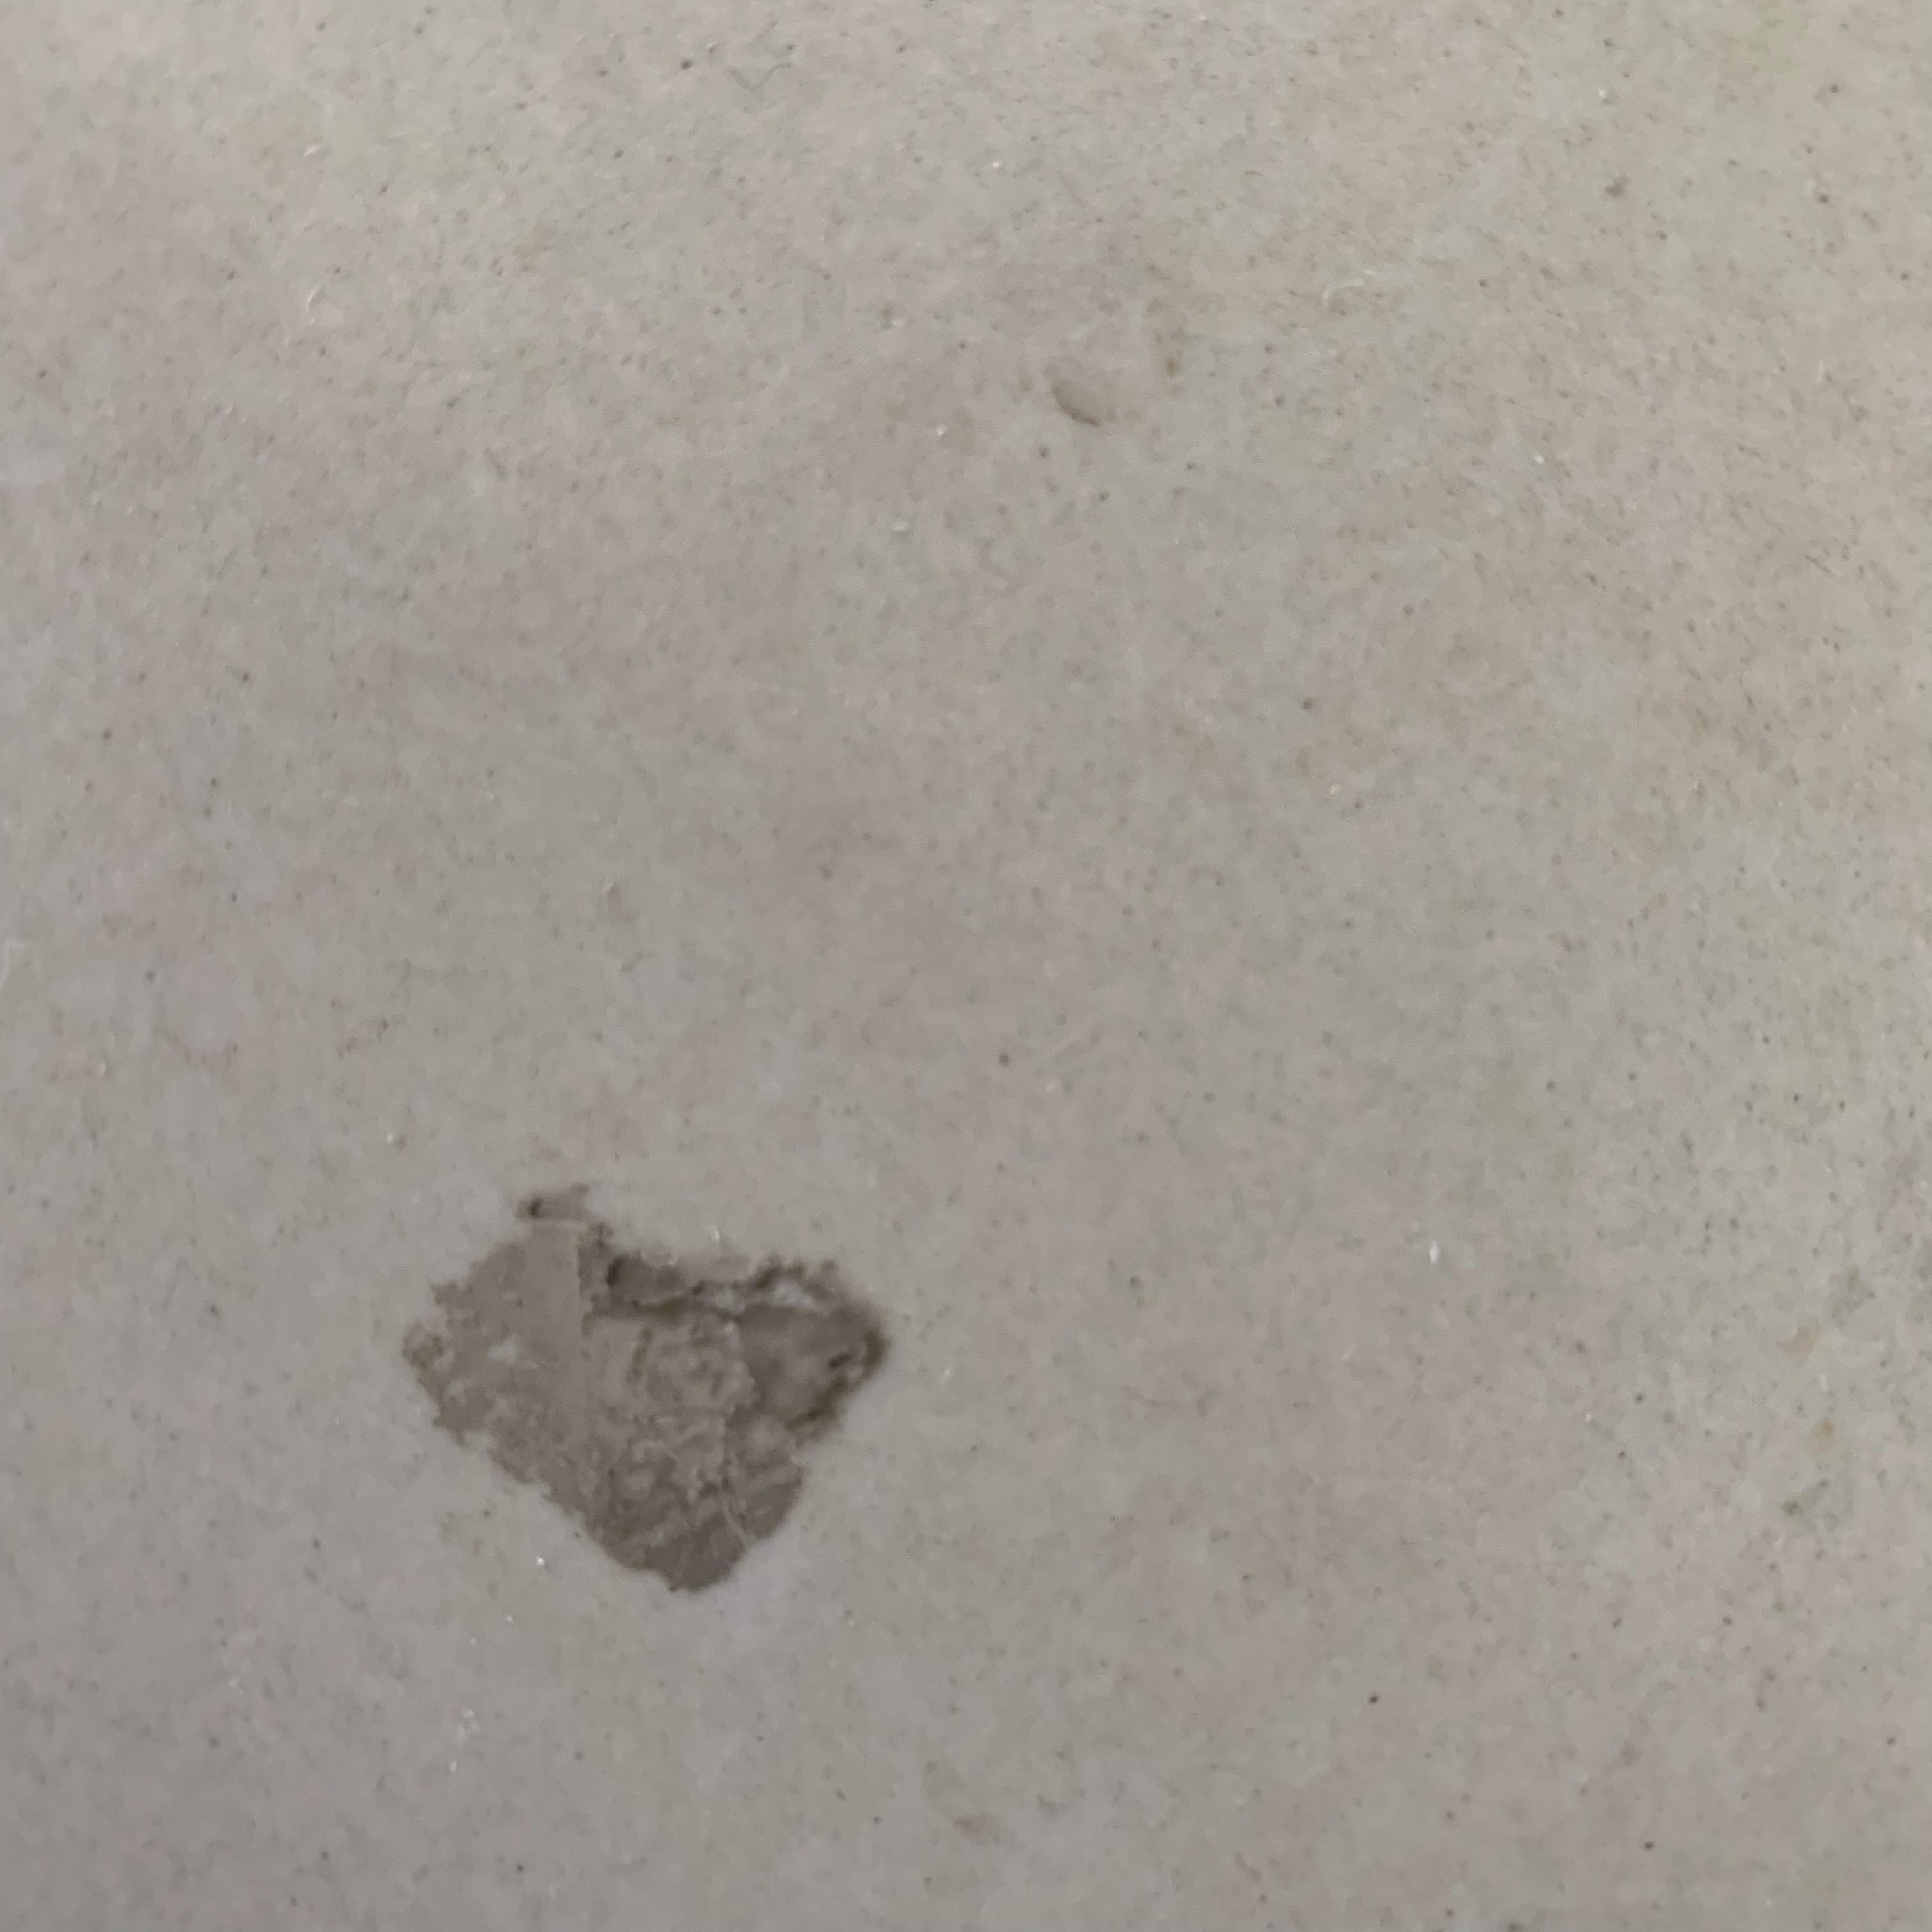grey spot: (403, 1185, 895, 1592)
